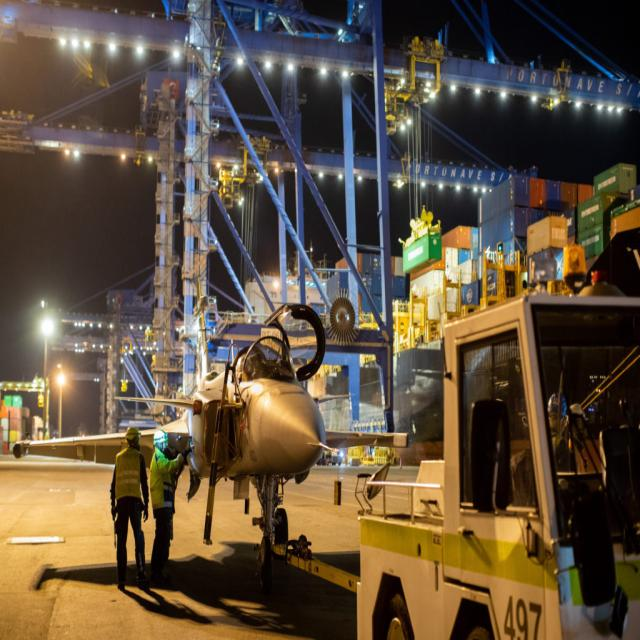MIL_Plane: (12, 275, 409, 593)
